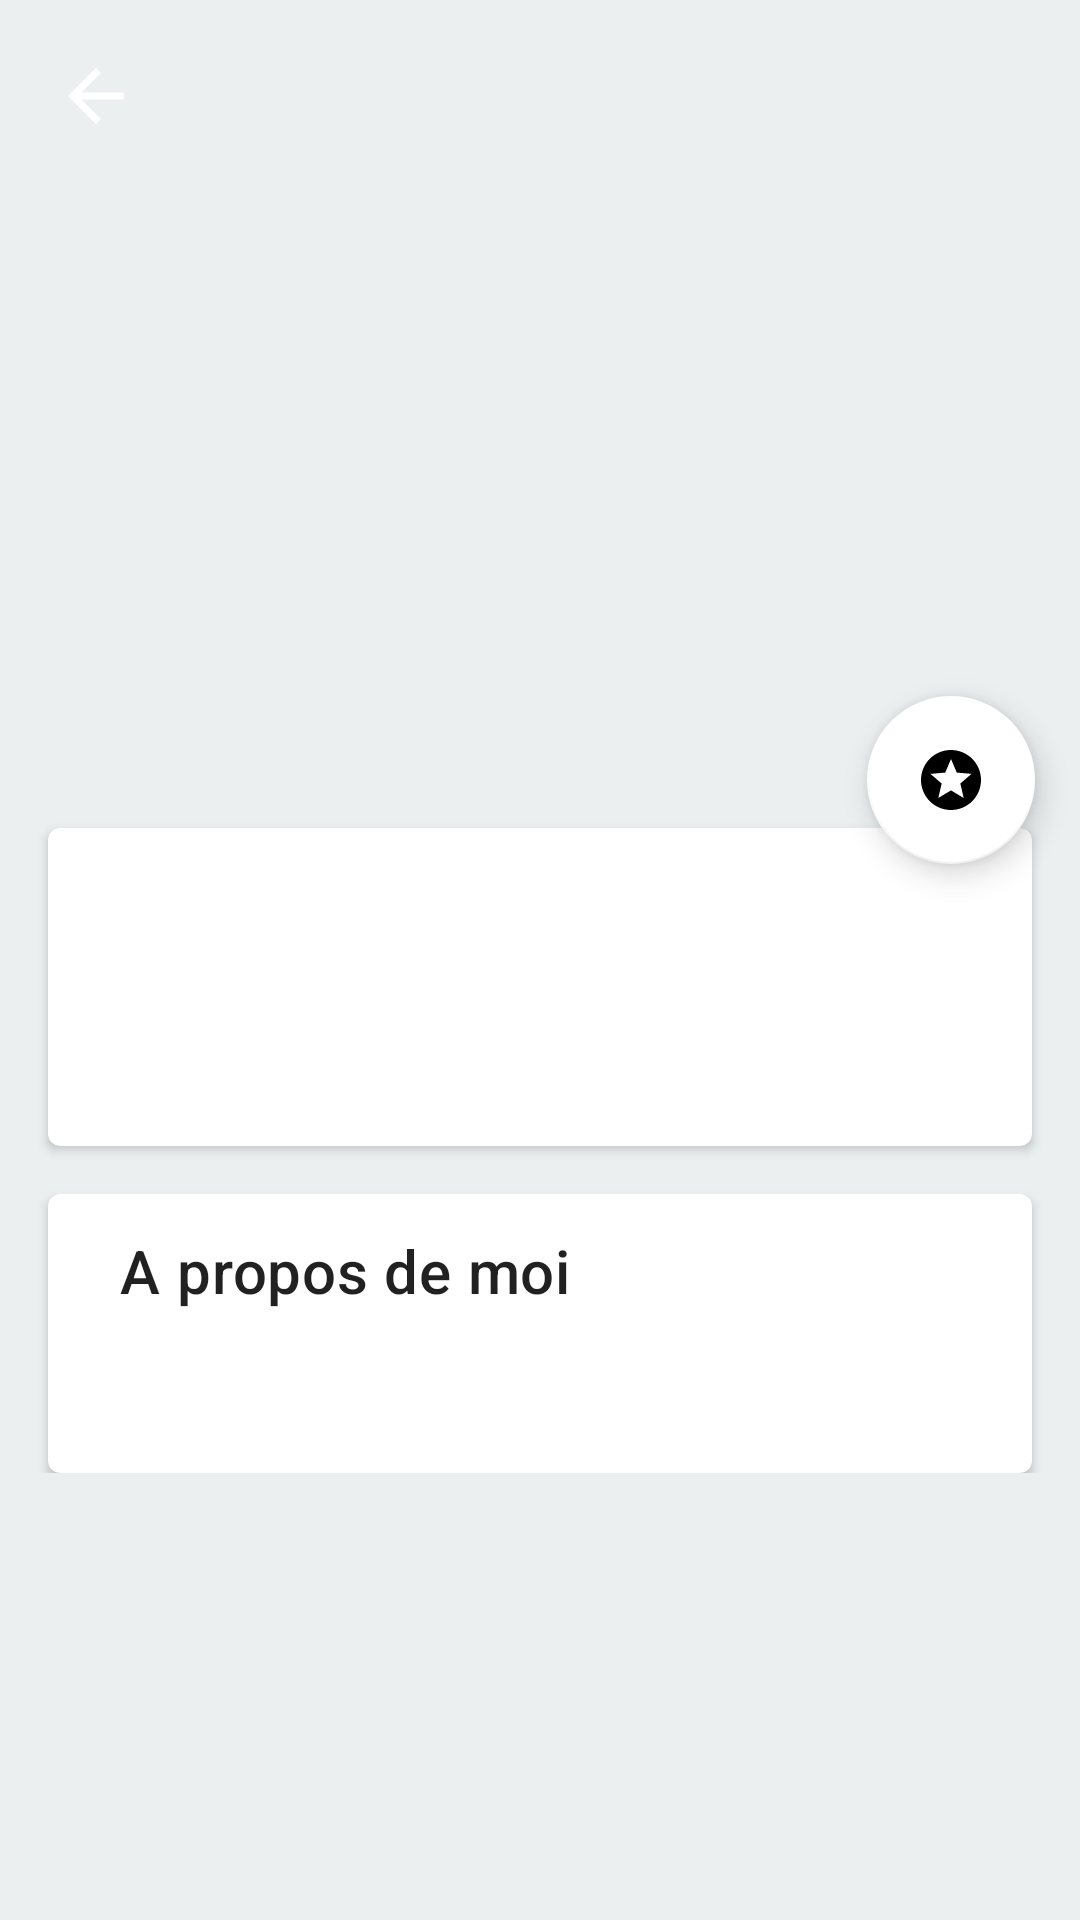

Where icons sit on this 1080w x 1920h app screen, as (x1, y1, x2, y2):
favorite empty: (867, 696, 1035, 864)
